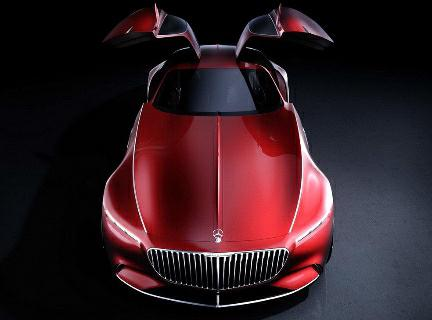奔驰-VisionMercedes-Maybach6: (93, 41, 349, 315)
